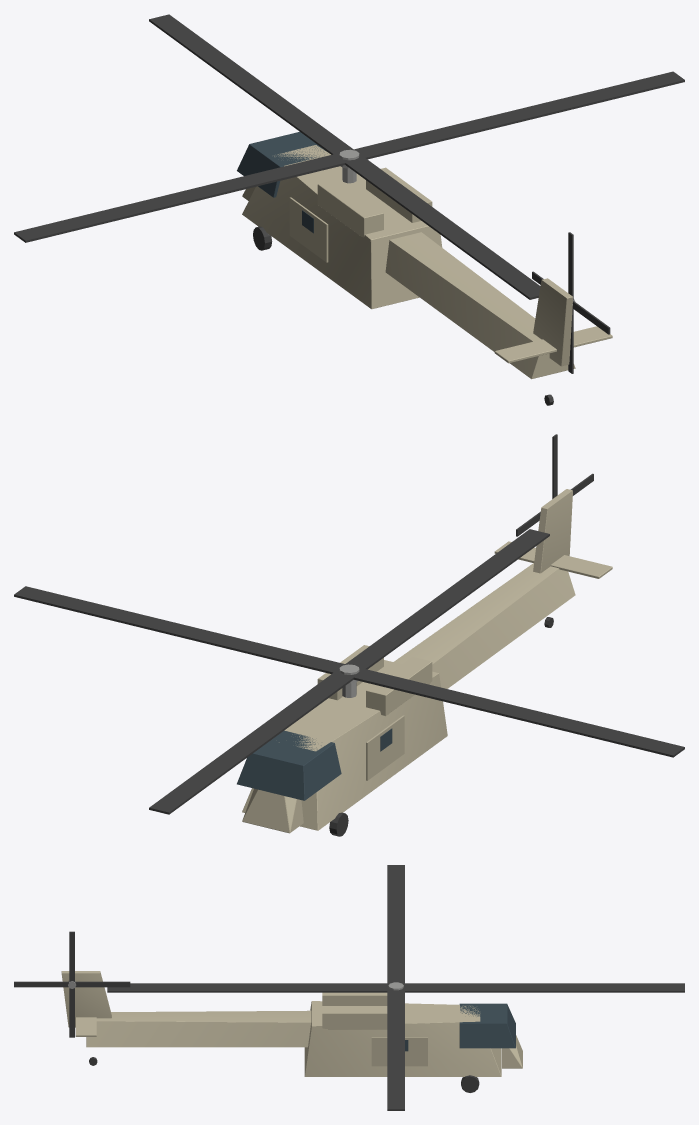
Rendered from usa_heli_uh60.glb.
The picture shows the model from 3 angles, top to bottom: view 1: azimuth 30°, elevation 25°; view 2: azimuth 150°, elevation 25°; view 3: azimuth 270°, elevation 25°; orthographic projection. The views are drawn at different scales.
Visible parts, largest first — view 1: body, rotor, trotor; view 2: body, rotor, trotor; view 3: body, rotor, trotor.
Boxes of the visible parts, left/top/right/bottom form: body: left=237, top=131, right=612, bottom=405; rotor: left=14, top=14, right=684, bottom=299; trotor: left=532, top=232, right=610, bottom=373; body: left=237, top=489, right=612, bottom=836; rotor: left=14, top=529, right=684, bottom=814; trotor: left=516, top=434, right=593, bottom=536; body: left=61, top=971, right=522, bottom=1092; rotor: left=107, top=865, right=684, bottom=1110; trotor: left=14, top=931, right=130, bottom=1037.
Size of the model in its own units: 16.4 by 4.66 by 19.05.
